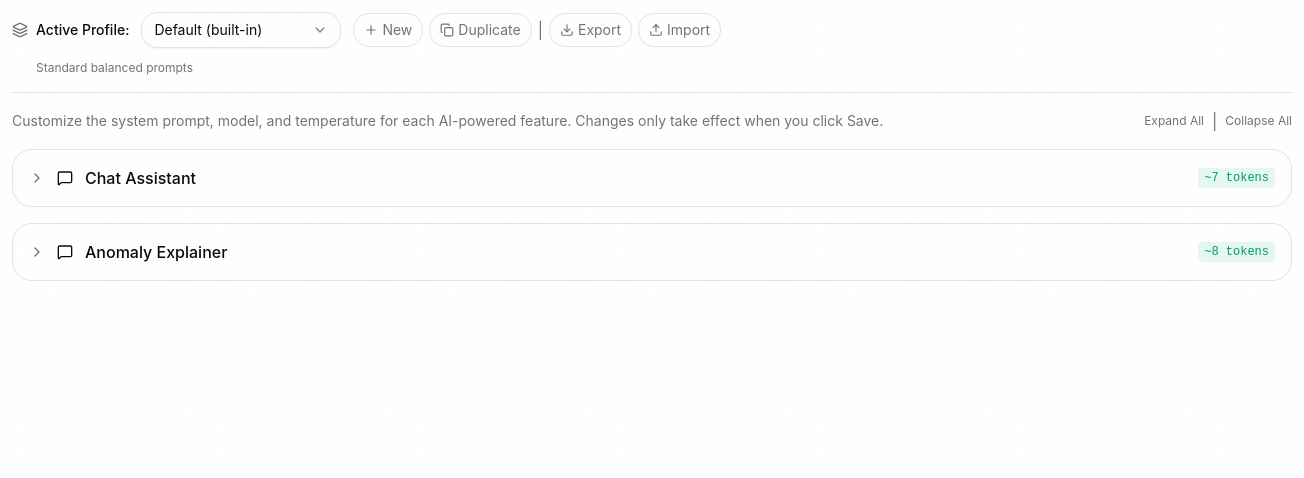
Test: AiPromptsTab › opens Duplicate dialog on click
This screenshot has width=1304, height=478.
Click the button "Duplicate" at (480, 30), box [429, 13, 532, 47]
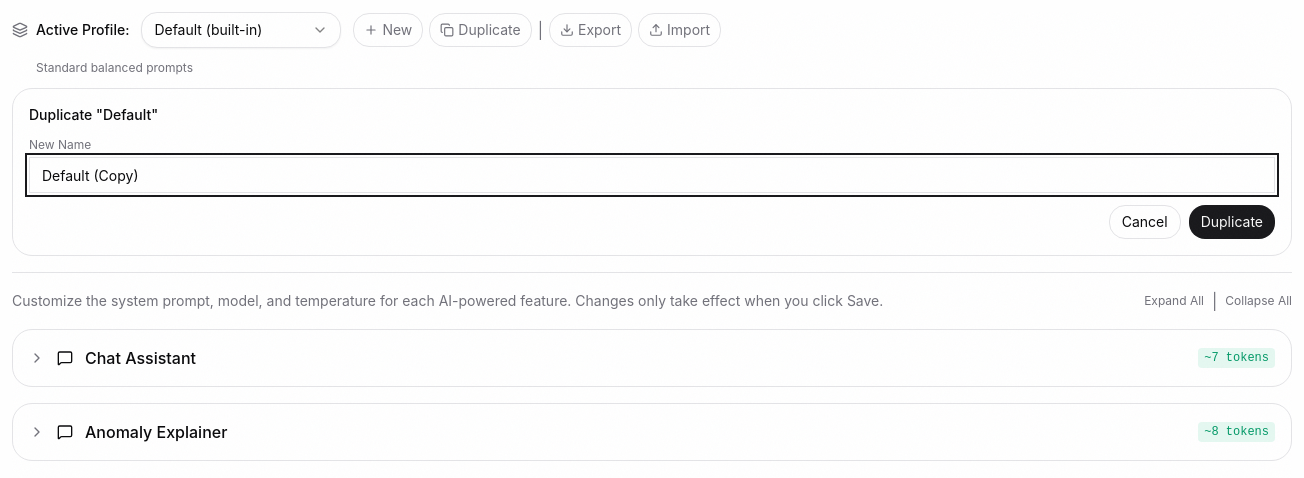
expect the heading "Duplicate \"Default\"" is shown: met, box [29, 106, 158, 123]
